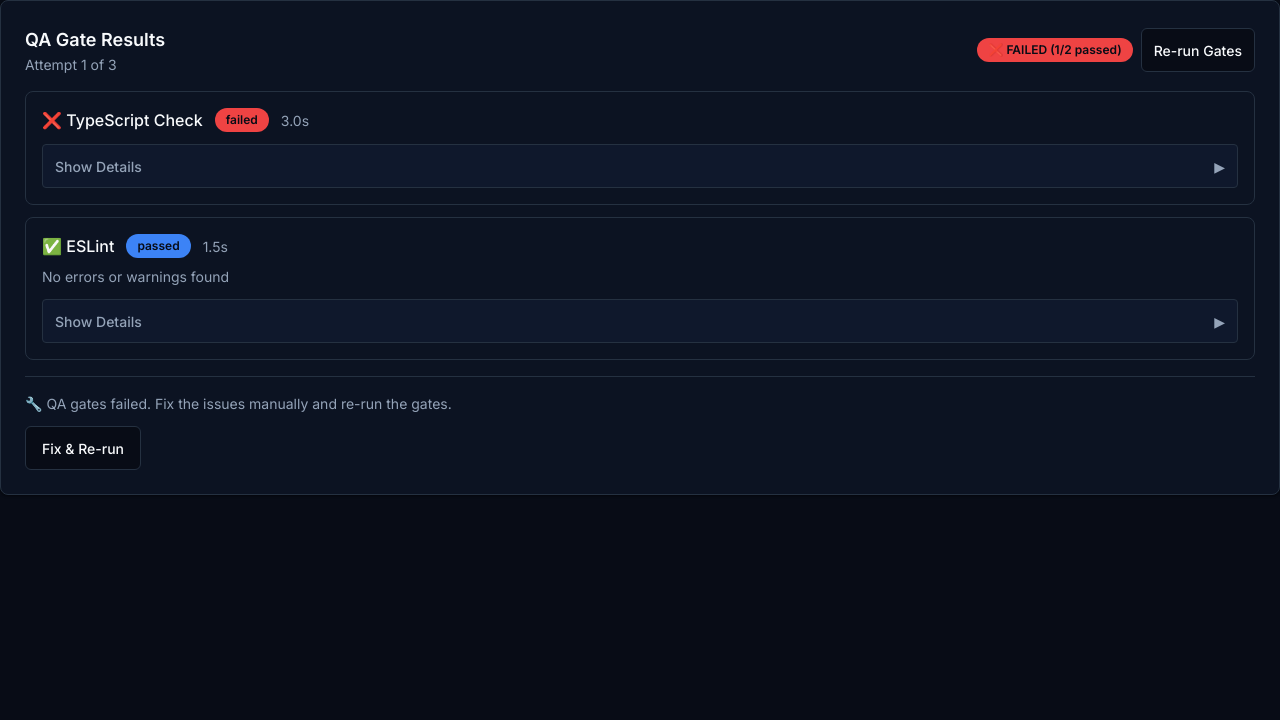
Test: QAGateResults › Failed Tests › shows error count when details expanded
Click the text "Show Details" below "TypeScript Check" at (98, 166), box [55,156,142,177]
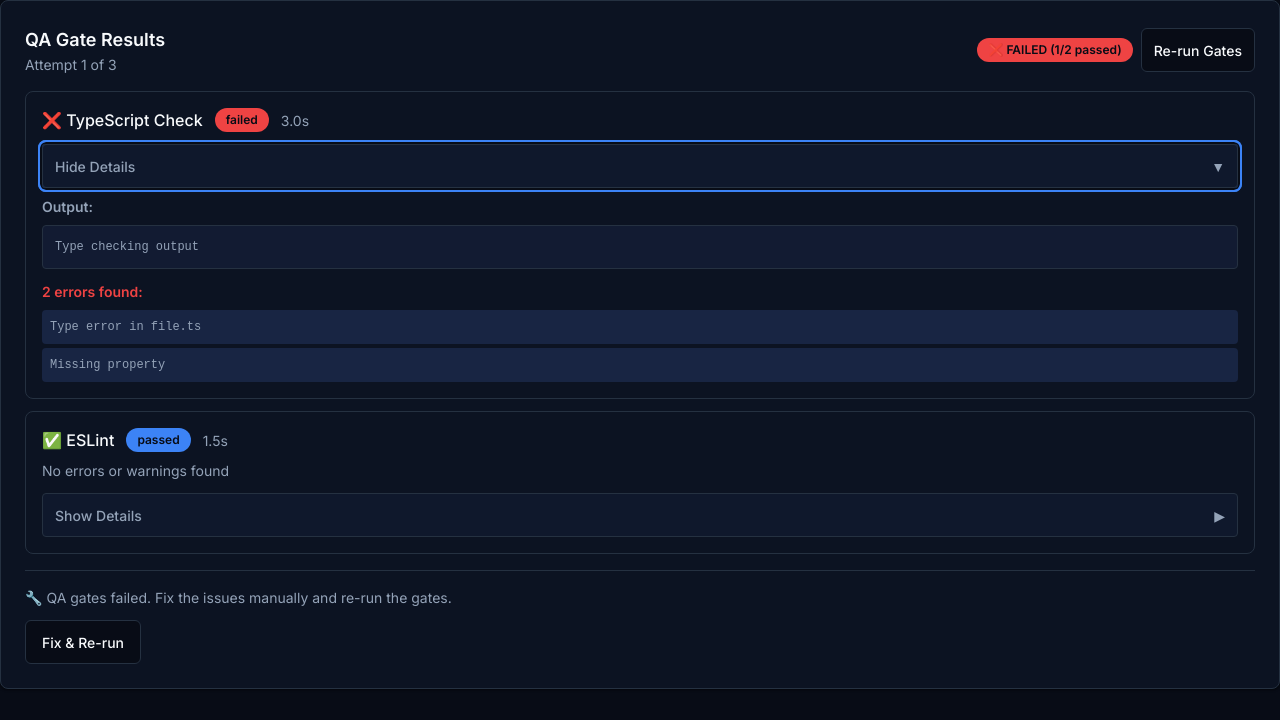
Check: the text "2 errors found:" is shown, box [42,283,143,300]
